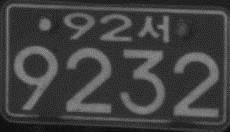2: (64, 45, 112, 114), (172, 49, 220, 118), (99, 12, 133, 42)
3: (119, 47, 166, 116)
9: (11, 44, 59, 112), (61, 11, 95, 40)
서: (137, 13, 170, 43)
